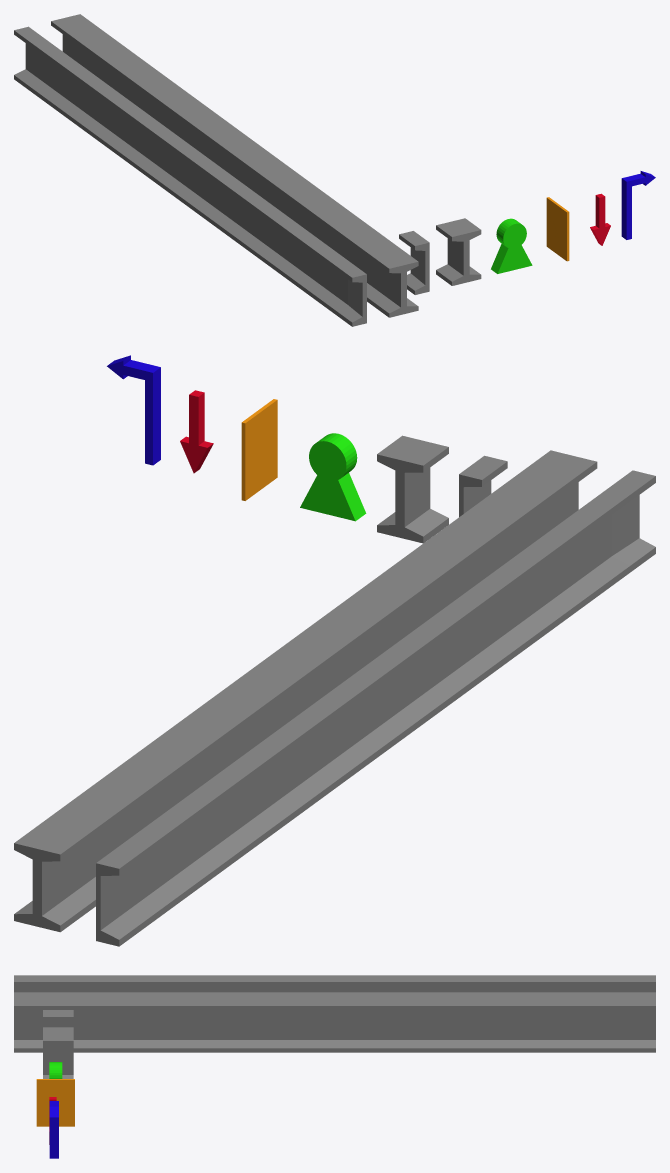
The model's file is VRScene.fbx.
The picture shows the model from 3 angles, top to bottom: view 1: azimuth 30°, elevation 25°; view 2: azimuth 150°, elevation 25°; view 3: azimuth 270°, elevation 25°; orthographic projection. The views are drawn at different scales.
Visible parts, largest first — view 1: C-Beam original, I-Beam original, I-Beam, Joint, C-Beam, Console, Moment, Force; view 2: C-Beam original, I-Beam original, I-Beam, Joint, Console, Moment, C-Beam, Force; view 3: I-Beam original, C-Beam original, Console, I-Beam, Moment, C-Beam.
Part boxes in pixels (x1,y1,x2,y2): C-Beam original: [14, 26, 366, 326]; I-Beam original: [51, 14, 418, 317]; I-Beam: [436, 218, 481, 285]; Joint: [491, 218, 532, 273]; C-Beam: [399, 231, 429, 294]; Console: [546, 197, 569, 261]; Moment: [621, 171, 655, 239]; Force: [590, 193, 610, 245]; C-Beam original: [96, 470, 655, 946]; I-Beam original: [14, 450, 597, 932]; I-Beam: [377, 435, 448, 543]; Joint: [300, 433, 366, 521]; Console: [241, 399, 277, 500]; Moment: [107, 355, 160, 465]; C-Beam: [459, 455, 507, 516]; Force: [180, 390, 213, 473]; I-Beam original: [14, 992, 655, 1052]; C-Beam original: [14, 975, 655, 992]; Console: [36, 1079, 74, 1126]; I-Beam: [43, 1027, 73, 1078]; Moment: [49, 1101, 58, 1158]; C-Beam: [43, 1010, 73, 1027].
Size of the model in its own units: 275 by 51.9 by 500.
